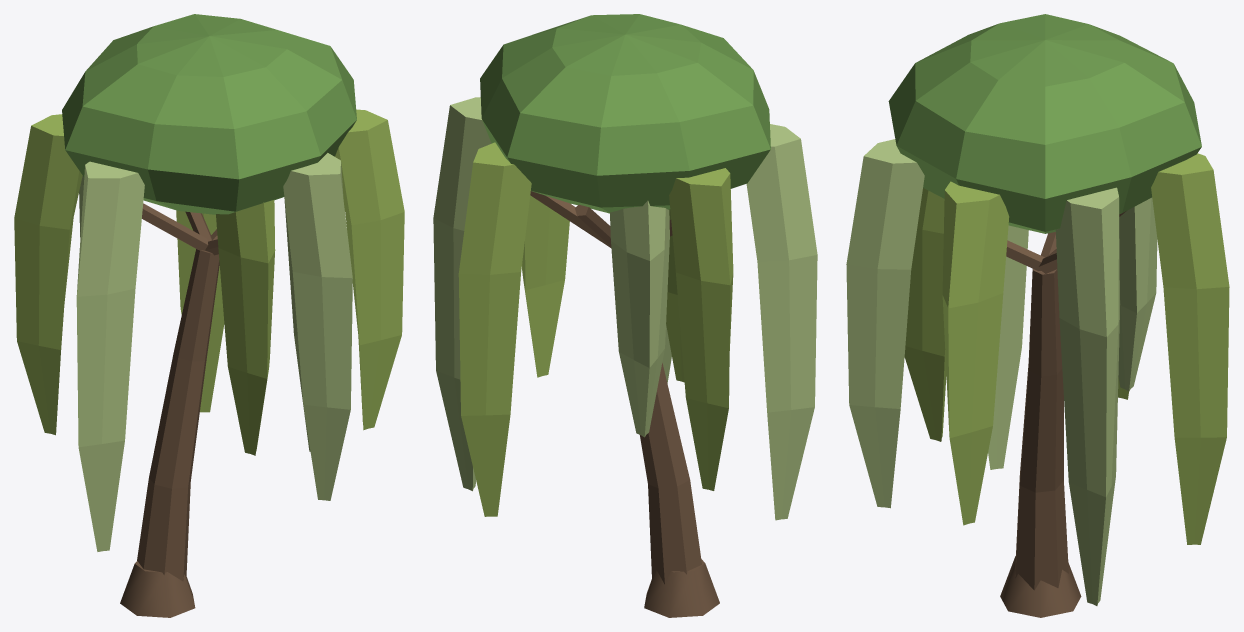
File: willow_small.glb
The picture shows the model from 3 angles, left to right: view 1: azimuth 30°, elevation 25°; view 2: azimuth 150°, elevation 25°; view 3: azimuth 270°, elevation 25°; orthographic projection. The views are drawn at different scales.
Parts seen in each view (by area): view 1: willow_small; view 2: willow_small; view 3: willow_small.
Part boxes in pixels (bbox=[...]): willow_small: bbox=[14, 14, 404, 617]; willow_small: bbox=[433, 14, 817, 617]; willow_small: bbox=[846, 14, 1229, 617].
Size of the model in its own units: 2.45 by 4.02 by 2.36.
